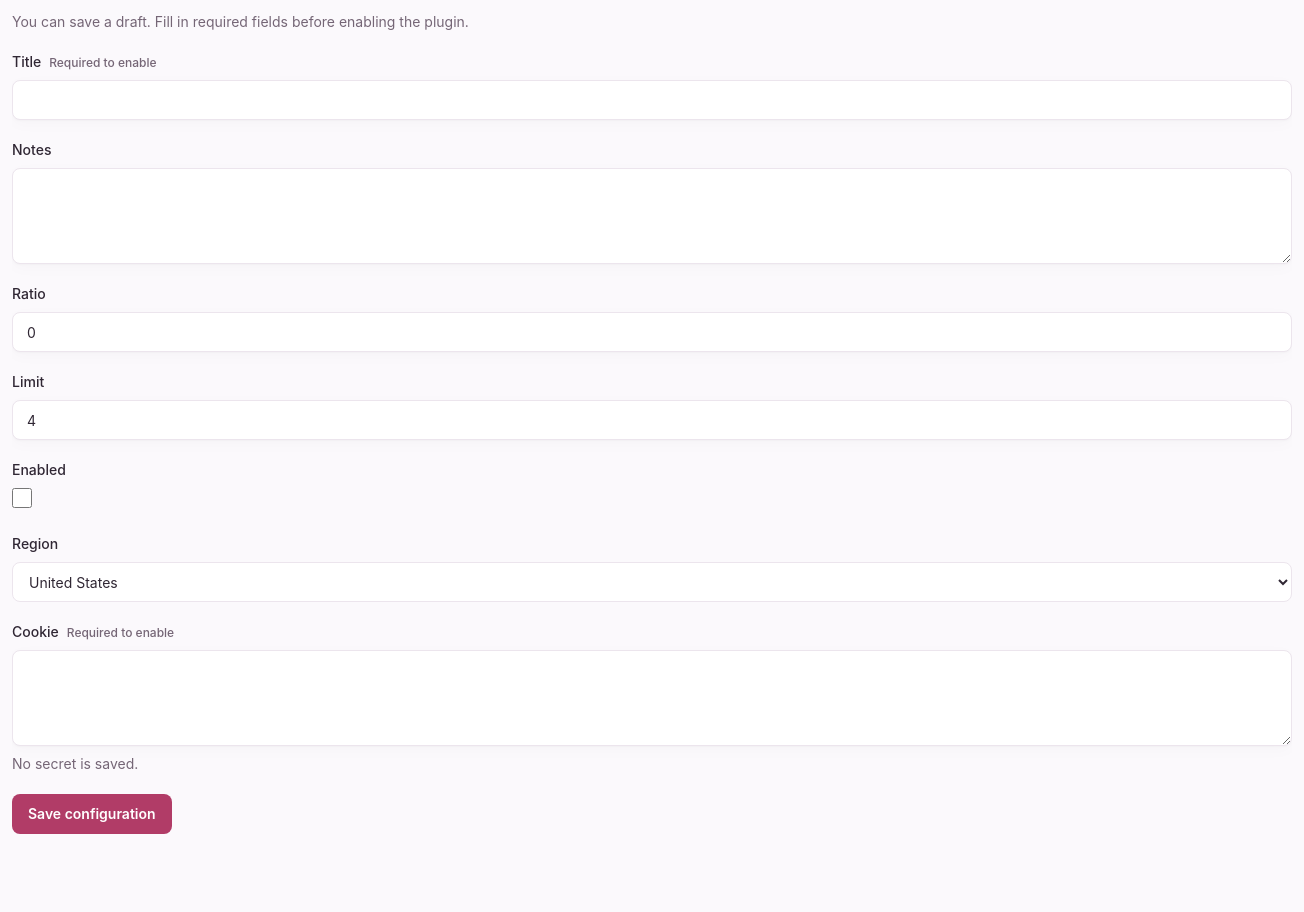
Test: blank numeric and select values explicitly clear their saved values
Clear the field labelled "Limit" at (652, 420), box [12,400,1292,440]
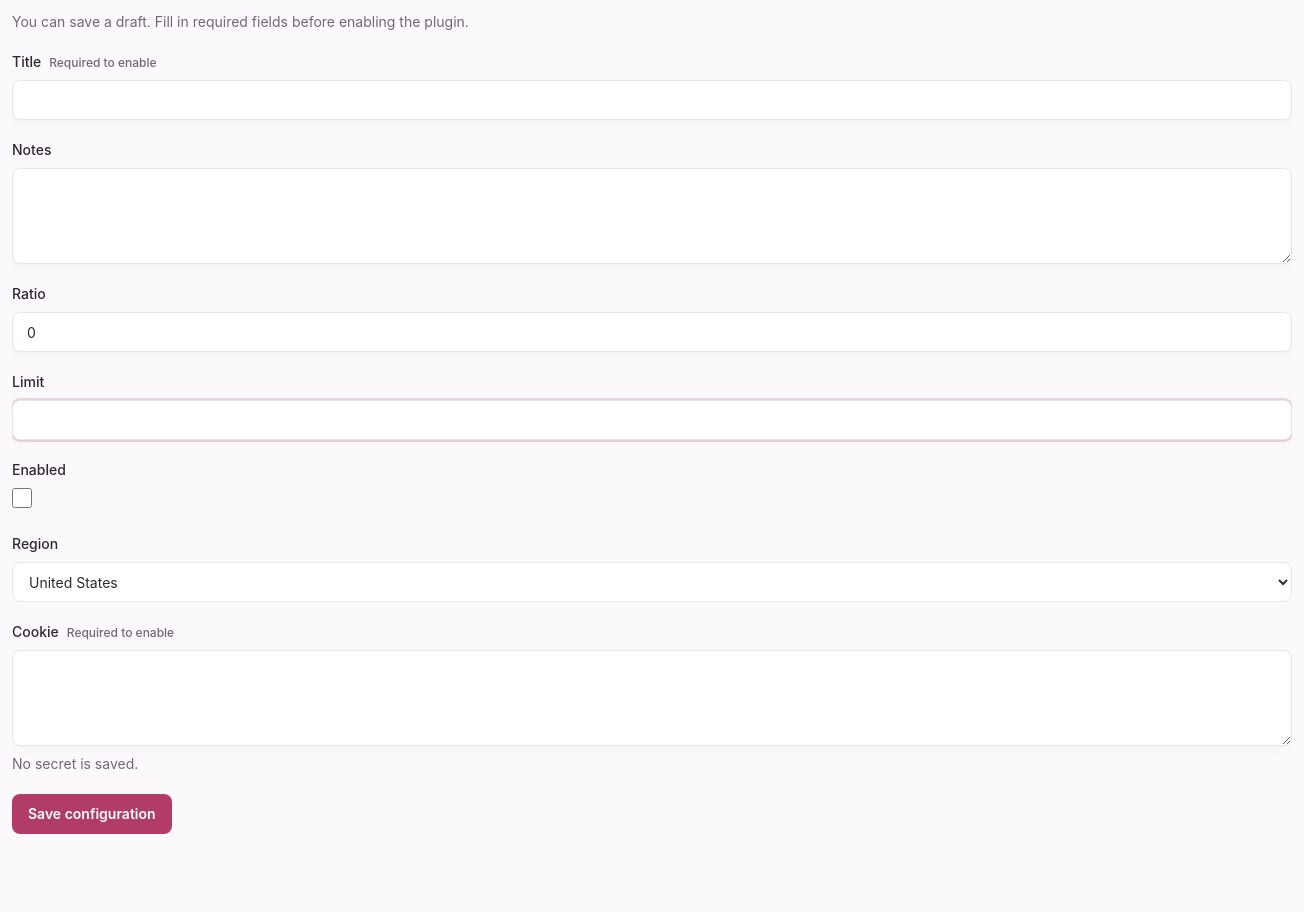
Select "Choose an option" in the dropdown labelled "Region" at (652, 582), box [12,562,1292,602]
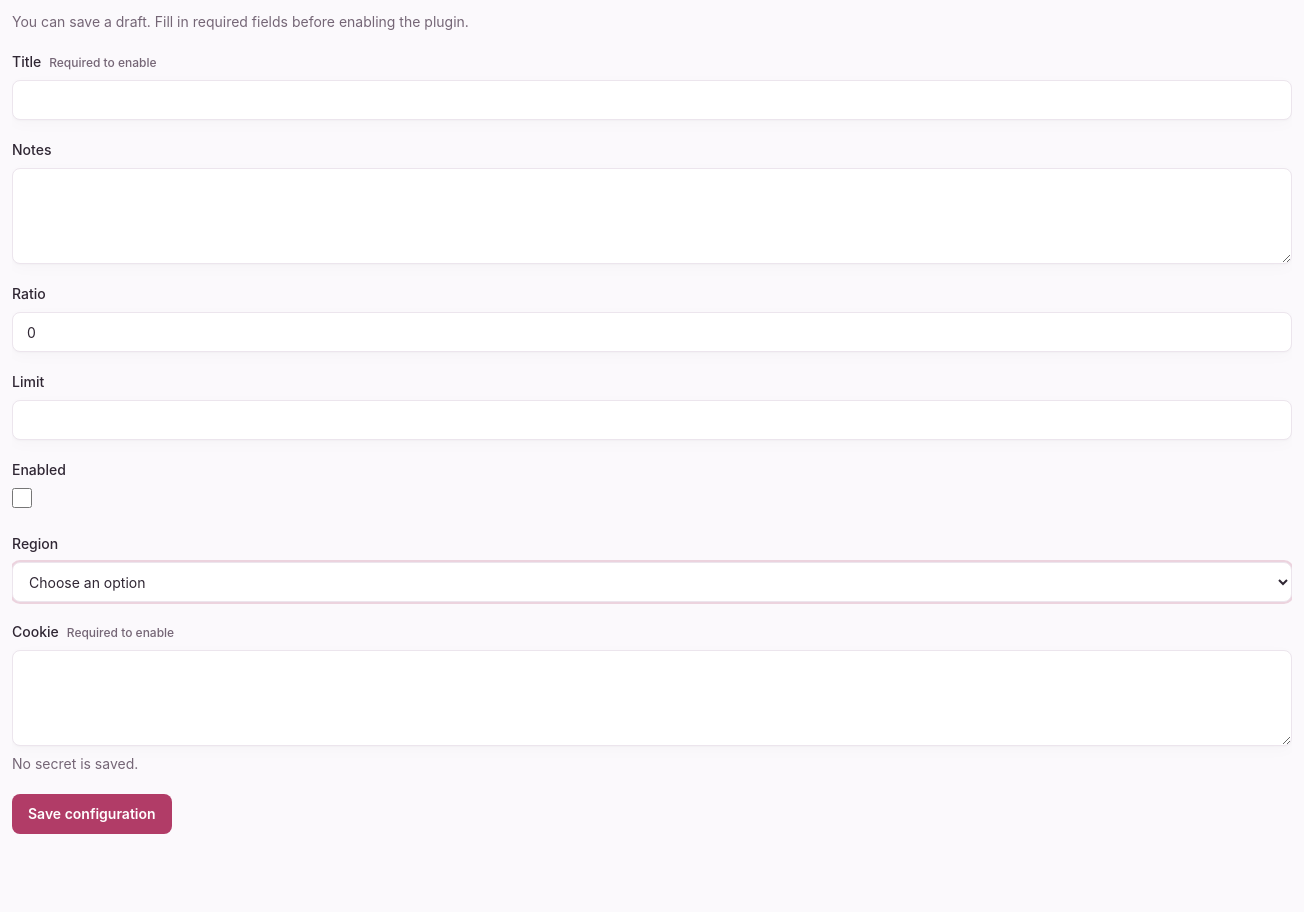
Click the button "Save configuration".
click(92, 814)  # box [12,794,172,834]
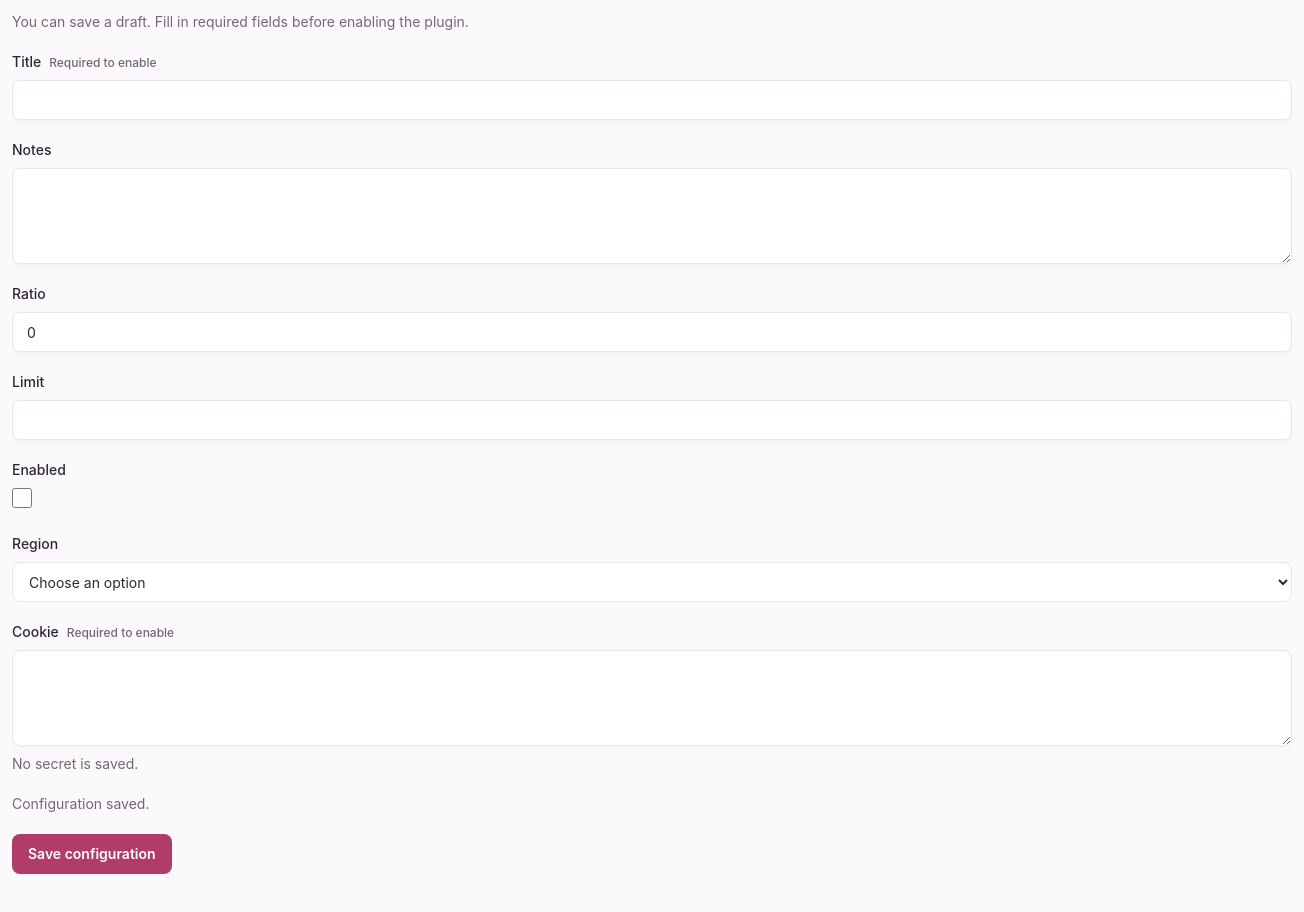
Expected: the message "Configuration saved." is shown, [12,795,150,812]
